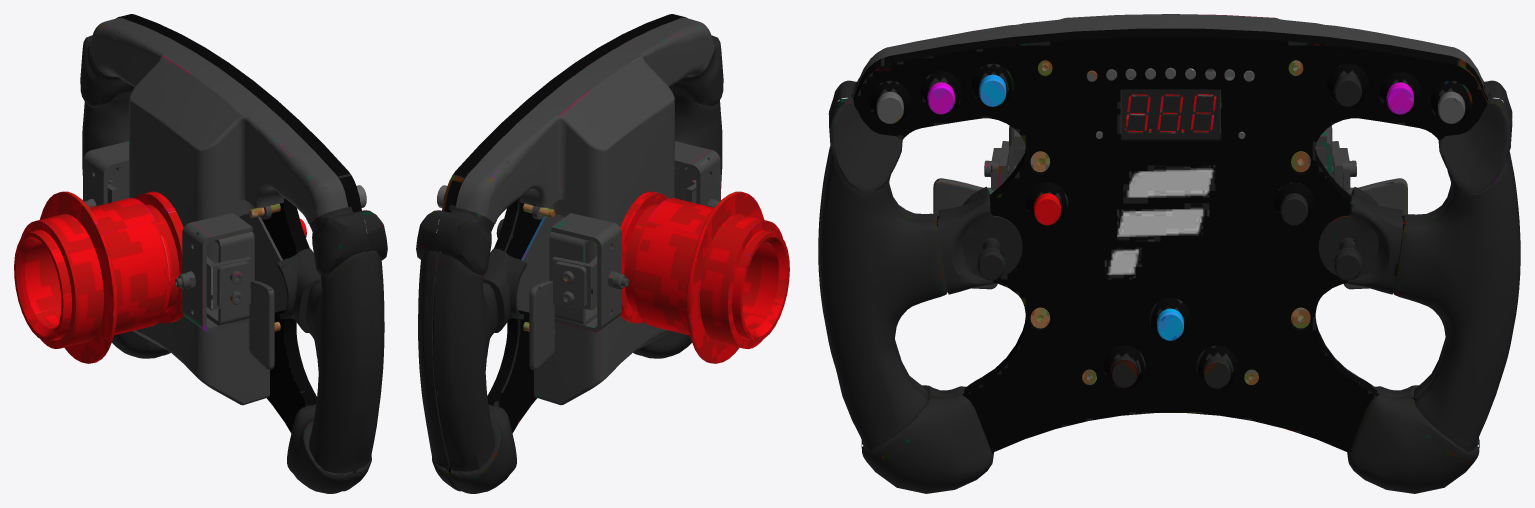
The model's file is wheel_a.glb.
3 views of the same model, side by side, from view 1: azimuth 30°, elevation 25°; view 2: azimuth 150°, elevation 25°; view 3: azimuth 270°, elevation 25° (orthographic). The views are drawn at different scales.
Visible parts, largest first — view 1: wheel_a; view 2: wheel_a; view 3: wheel_a.
Part boxes in pixels (<box>): wheel_a: <box>14,14,387,493</box>; wheel_a: <box>416,14,789,493</box>; wheel_a: <box>818,14,1520,493</box>.
Size of the model in its own units: 0.0123 by 0.0174 by 0.0243.
Materials: 1 (1 with a texture image).
